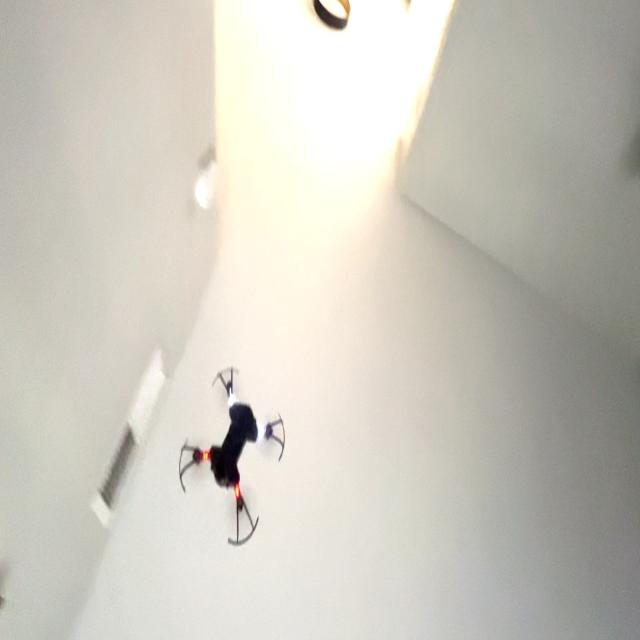drone: (165, 358, 289, 555)
